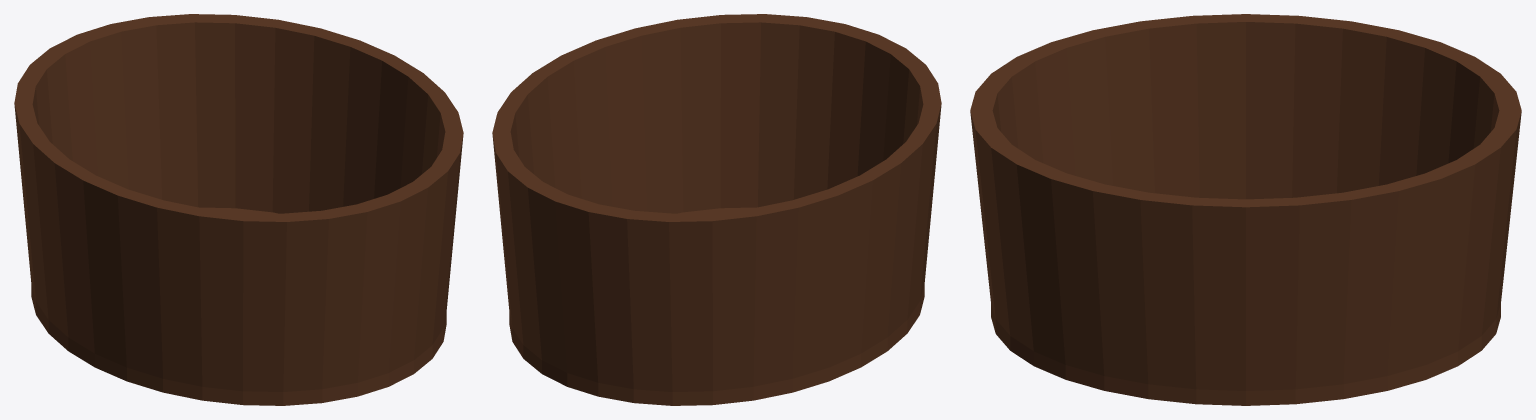
File: FacucetTub.fbx
The picture shows the model from 3 angles, left to right: view 1: azimuth 30°, elevation 25°; view 2: azimuth 150°, elevation 25°; view 3: azimuth 270°, elevation 25°; orthographic projection. The views are drawn at different scales.
Parts seen in each view (by area): view 1: Circle; view 2: Circle; view 3: Circle.
Boxes of the visible parts, x1=… form: Circle: x1=14, y1=14, x2=463, y2=405; Circle: x1=492, y1=14, x2=941, y2=405; Circle: x1=970, y1=14, x2=1521, y2=405.
Size of the model in its own units: 35.29 by 17.53 by 42.56.
